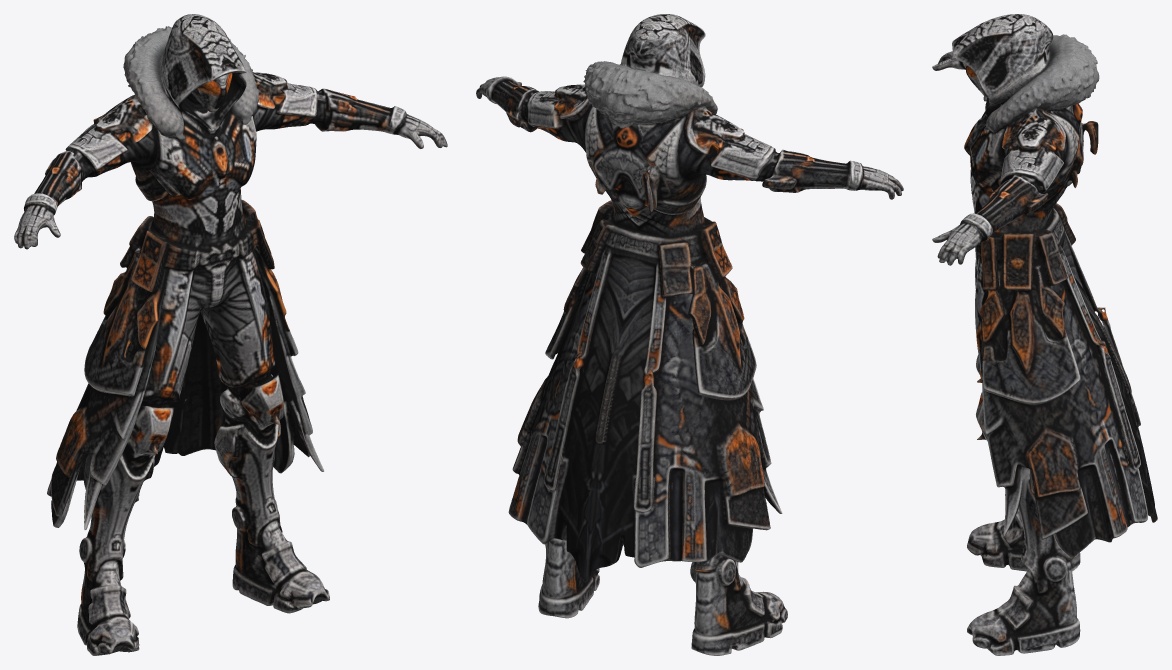
Rendered from Ficha de Referência da Armadura Orion - NIVEL 5 3D.glb.
3 renders of one model, left to right at view 1: azimuth 30°, elevation 25°; view 2: azimuth 150°, elevation 25°; view 3: azimuth 270°, elevation 25°, orthographic. The views are drawn at different scales.
Bounding box in the file's own units: 1.41 × 1.9 × 0.6615.
1 material, 1 textured.
